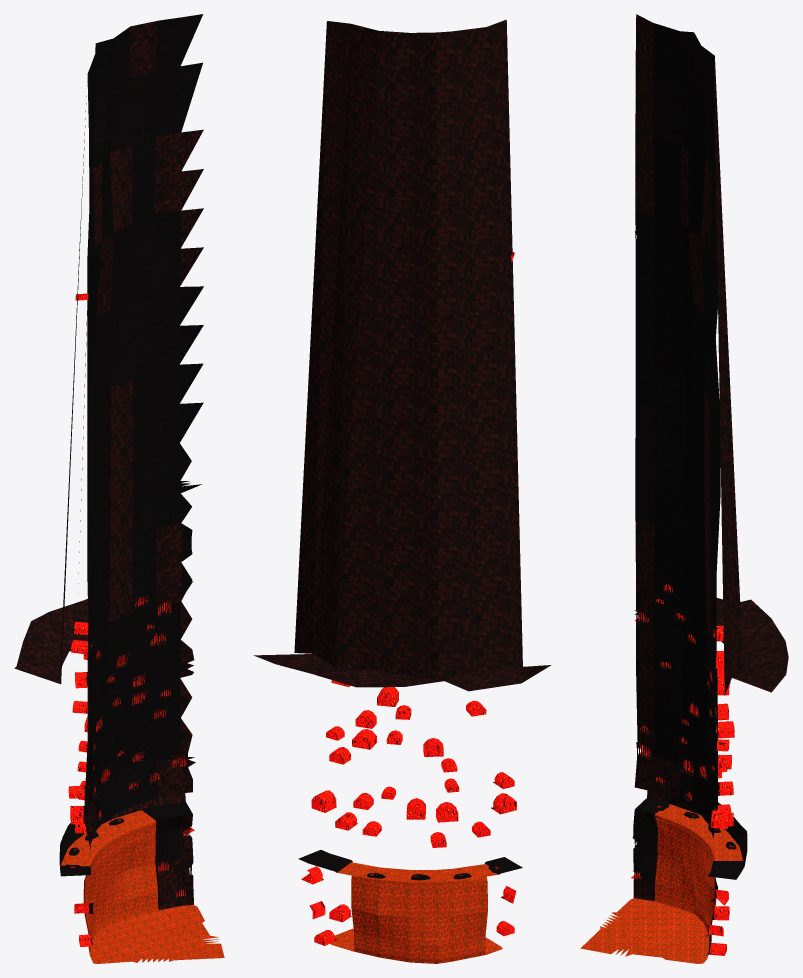
Rendered from map_base_s4.glb.
3 renders of one model, left to right at view 1: azimuth 30°, elevation 25°; view 2: azimuth 150°, elevation 25°; view 3: azimuth 270°, elevation 25°, orthographic. The views are drawn at different scales.
Visible parts, largest first — view 1: MapBaseS4Rock; view 2: MapBaseS4Rock; view 3: MapBaseS4Rock.
Part boxes in pixels (<box>): MapBaseS4Rock: <box>14,14,224,963</box>; MapBaseS4Rock: <box>253,19,551,963</box>; MapBaseS4Rock: <box>580,14,788,963</box>.
Size of what is drawn, in the model's own units: 93.3 by 342 by 73.2.
Materials: 7 (7 with a texture image).
